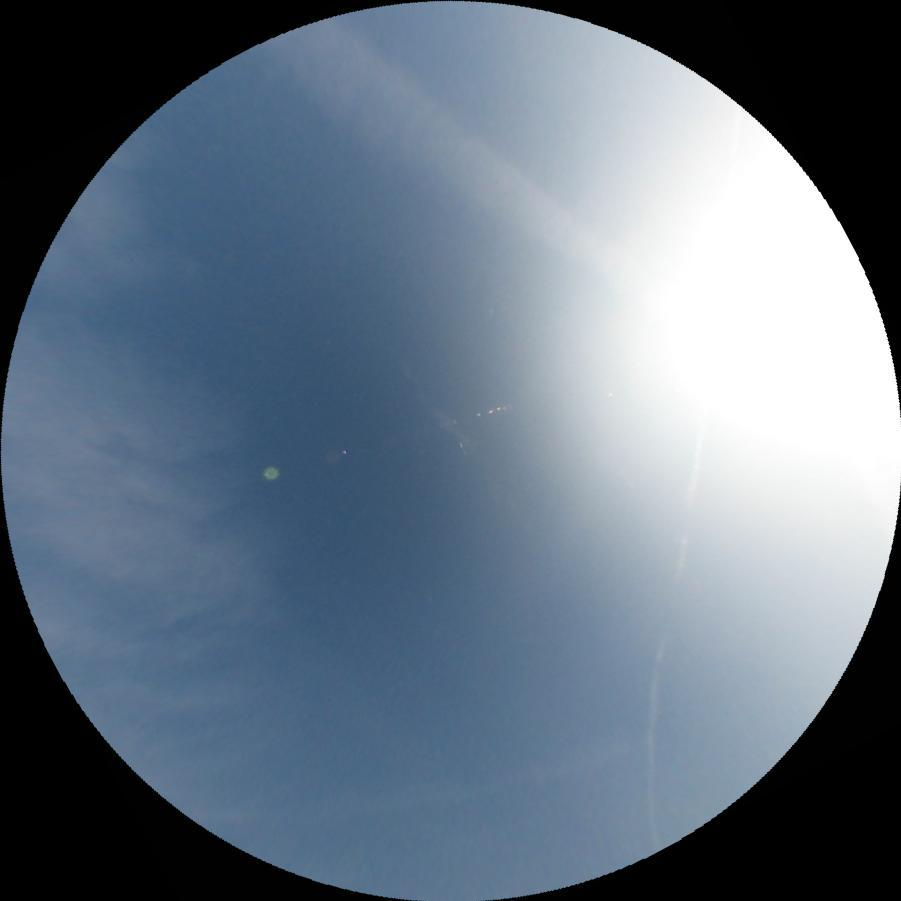contrail old: (632, 406, 706, 851)
contrail veryold: (207, 718, 633, 851)
sun: (608, 151, 901, 459)
